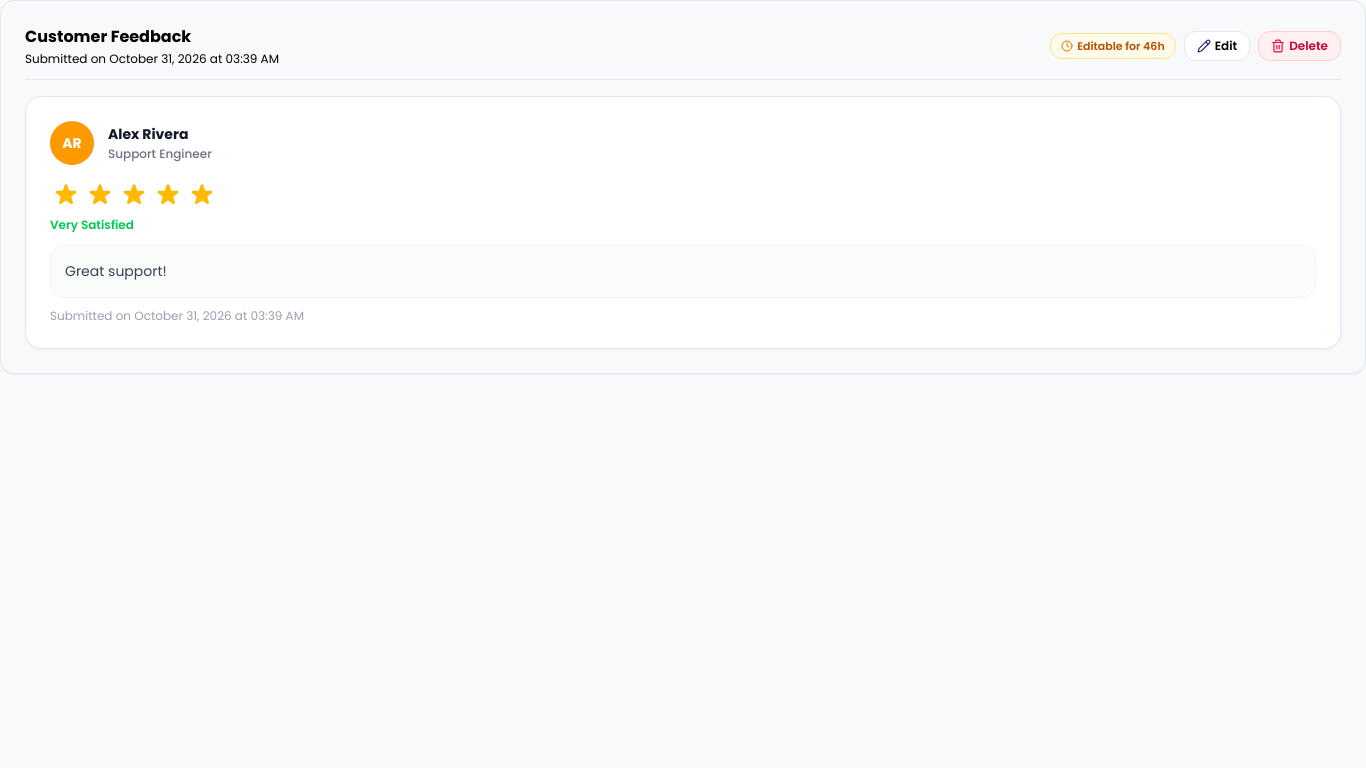
Test: Customer Feedback Lifecycle Tests (Submit, Dismiss, Edit, Delete) › covers AC-11 (delete error): displays error message when deleteFeedback fails and keeps feedback intact
Click the button "Delete" at (1300, 46), box [1258, 31, 1341, 61]
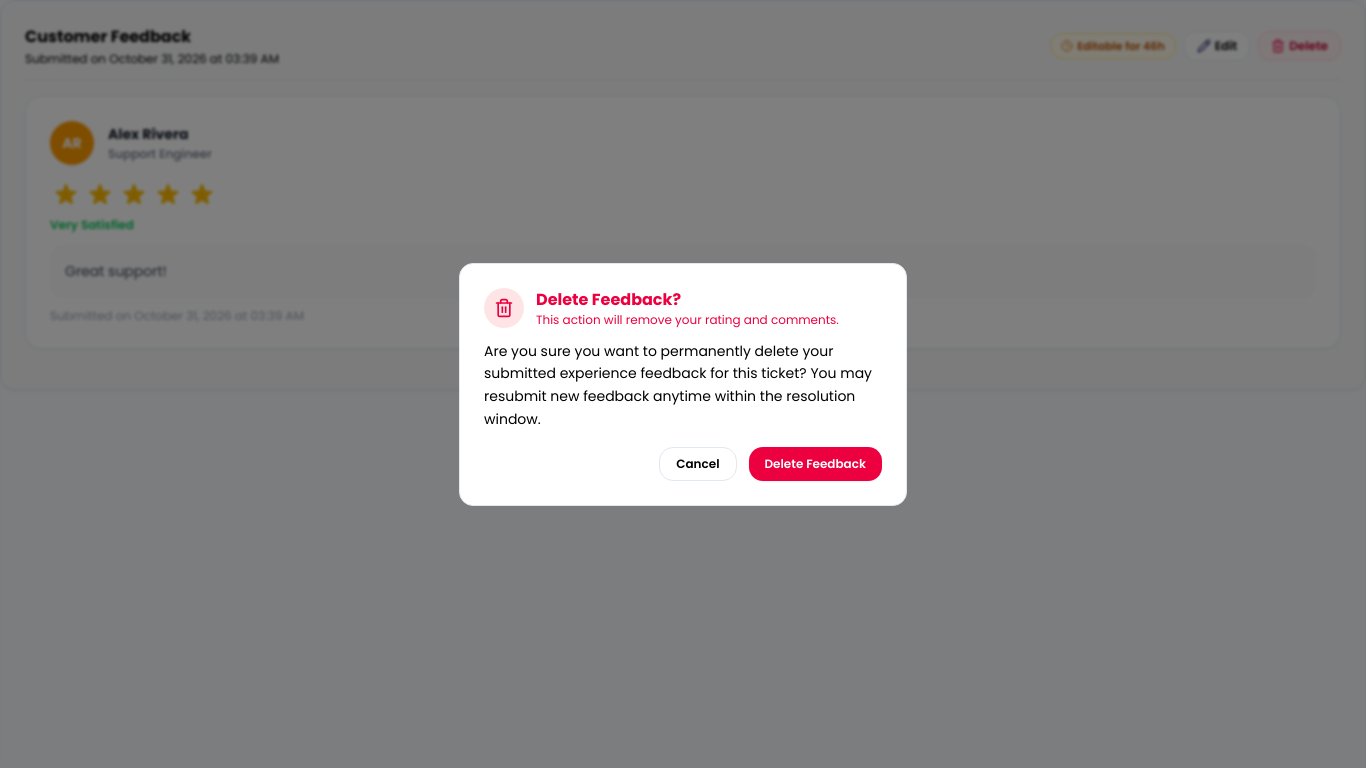
Click the button "Delete Feedback" at (815, 464), box [748, 446, 882, 480]
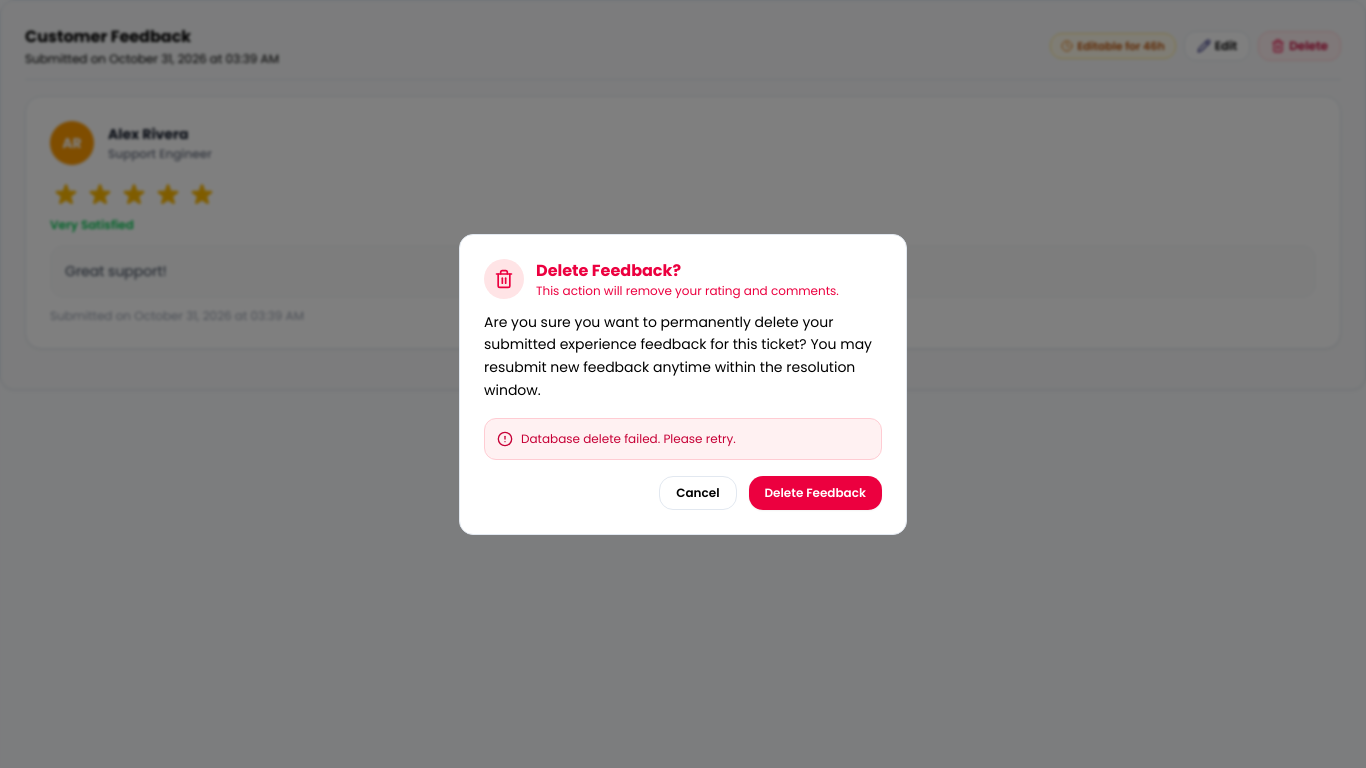
expect the heading "Delete Feedback?" is shown: met, box [536, 258, 681, 282]
expect the text "Database delete failed. Please retry." is shown: met, box [521, 430, 736, 446]
